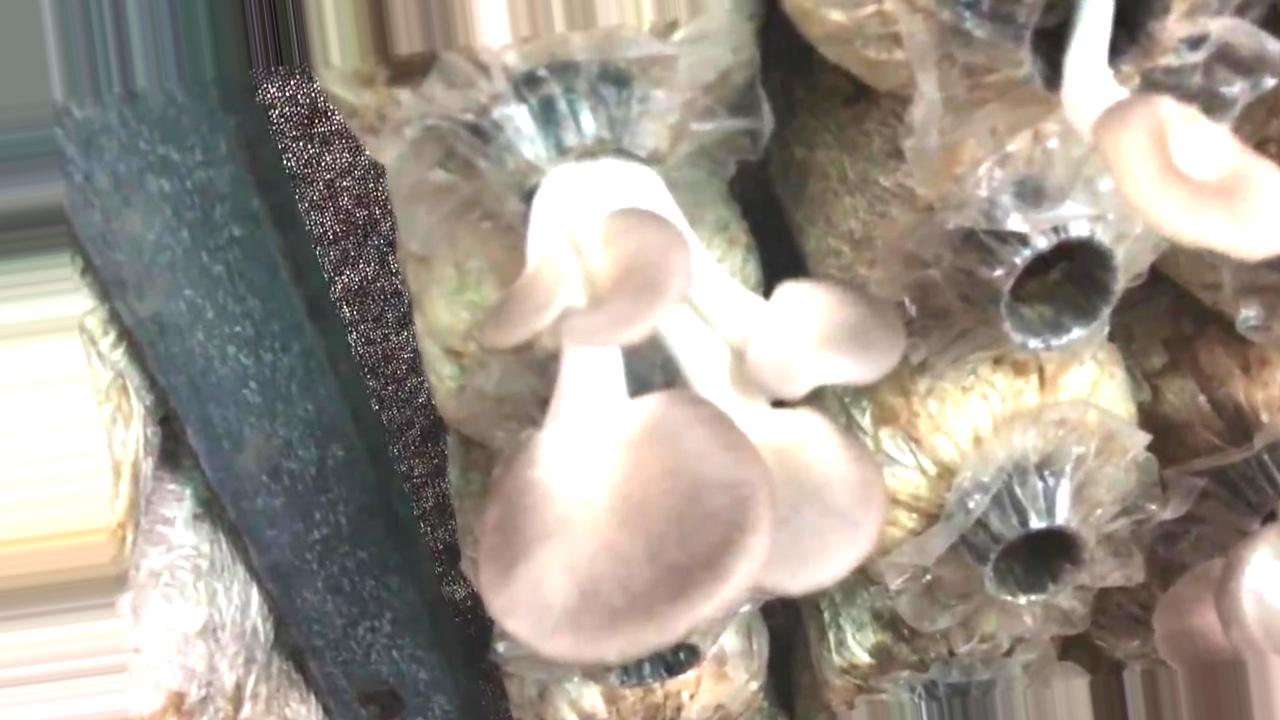nam: (478, 75, 903, 663), (1006, 1, 1278, 264)
